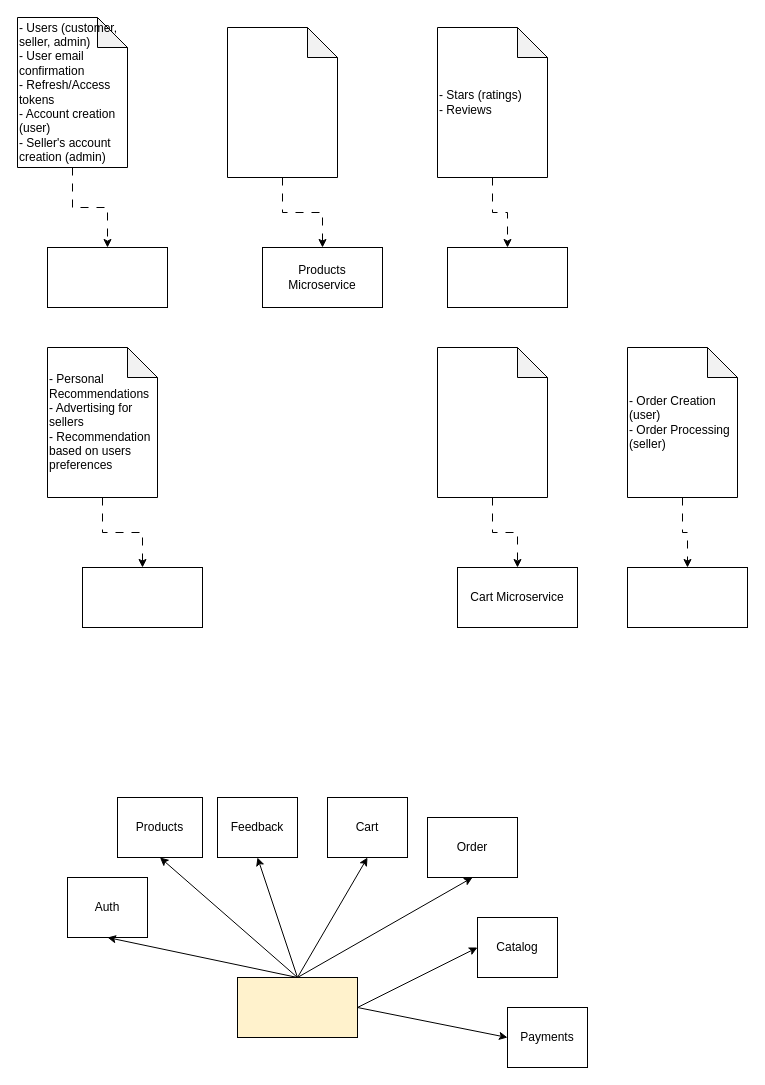
Some shapes in this 765 by 1085 pixel diagram are drawn without their labels. The centre of each missing label's shape, as x and y in pixels:
- Cart Positions CRUD: [492,422]
- Products CRUD: [282,102]
Auth Microservice: [107,277]
BFF/API Gateway: [297,1007]
Catalog Microservice: [142,597]
Feedback Microservice: [507,277]
Order Management Microservice: [687,597]
